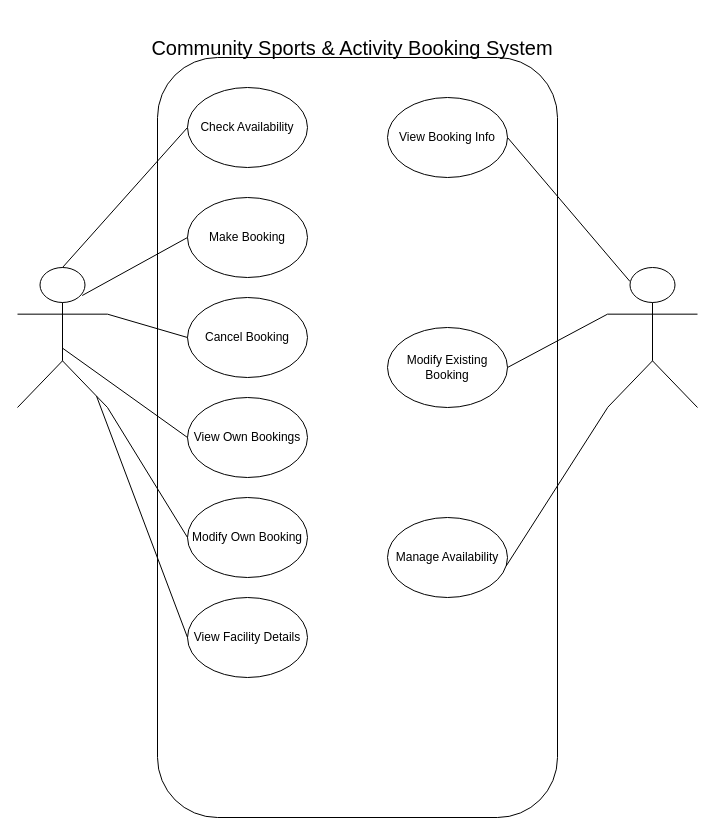
Image size: 715x835. Some labels were removed from this diagram. Here are the shapes that lost their labels. From the top down, the box of each, then its label:
(16, 266, 108, 408): Facility User
(606, 266, 698, 408): Booking Staff
